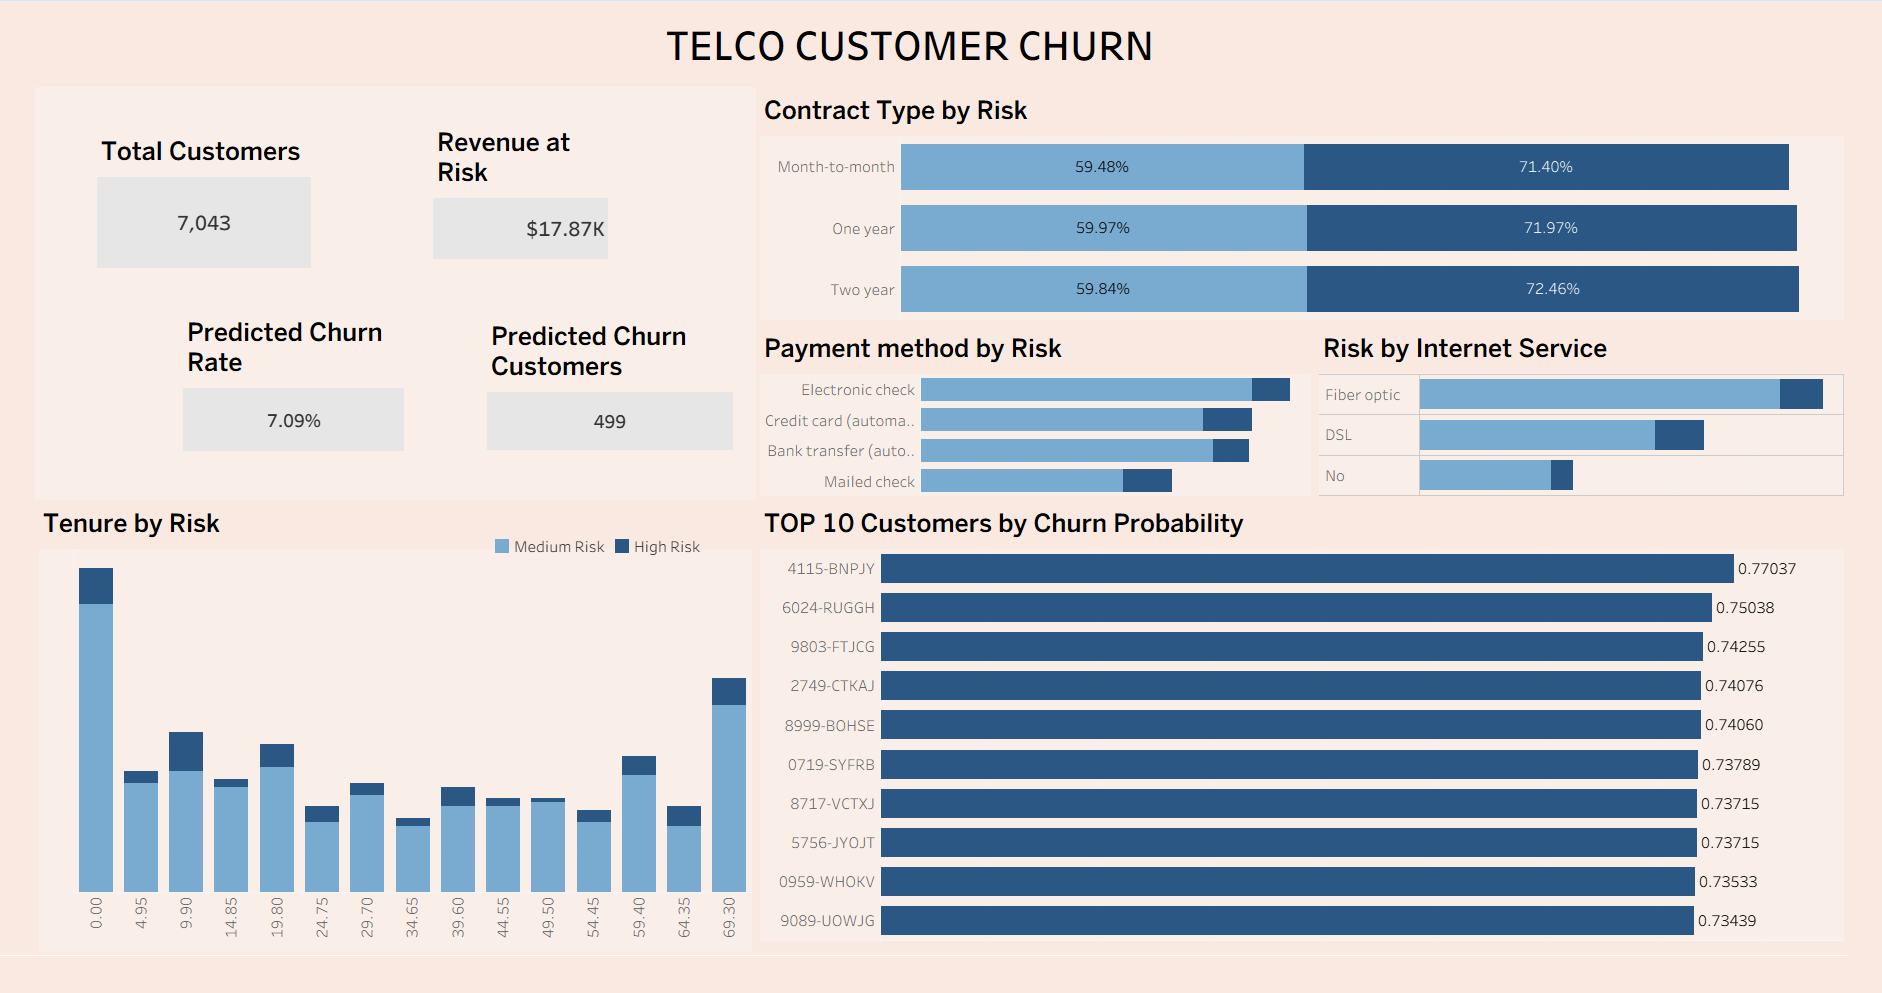

The dashboard page shown, as its layout file describes it:
{"tool":"tableau","page":{"name":"Dashboard 2","canvas":[1000,1000],"units":"permille","ordinal":1},"visuals":[{"type":"text","box":[0,0,977.1,87.1]},{"type":"worksheet","title":"Sheet 27","mark":"Automatic","rows":["Contract"],"cols":["Churn_Probability"],"box":[411.6,87.1,565.5,238.9]},{"type":"worksheet","title":"churn probability dist","mark":"Automatic","box":[240.2,123.3,91.1,136.6]},{"type":"worksheet","title":"total_no_customers","mark":"Automatic","box":[65.2,131.8,111.7,136.6]},{"type":"worksheet","title":"predict churn rate","mark":"Automatic","box":[109.8,314.4,115.3,139.1]},{"type":"worksheet","title":"total no churn prediction","mark":"Automatic","box":[267.9,316.8,129.2,136.6]},{"type":"worksheet","title":"Sheet 28","mark":"Automatic","rows":["PaymentMethod"],"cols":["customerID"],"box":[411.6,326,289.4,176.6]},{"type":"worksheet","title":"Sheet 26","mark":"Automatic","rows":["InternetService","Calculation_1174313615127048192"],"cols":["customerID"],"box":[701,326,276,176.6]},{"type":"worksheet","title":"Sheet 29","mark":"Automatic","rows":["customerID"],"cols":["Tenure (bin)"],"box":[38,502.5,373.6,458.8]},{"type":"worksheet","title":"Sheet 30","mark":"Automatic","rows":["customerID"],"cols":["Churn_Probability"],"box":[411.6,502.5,565.5,458.8]},{"type":"legend","title":"Sheet 26","param":"[federated.1c94pka0d02pmd14s1cyp1slqojq].[none:customer_segment:nk]","box":[271,516.3,152.7,77.4]}]}

Visuals, with their boxes on the dashboard's canvas, which has no fixed pixel size, in thousandths of its width and height (x1, y1, x2, y2). These are canvas units, not pixel positions in the 1882x993 screenshot, which may show the page scaled, cropped or inside an application window:
text: x1=0 y1=0 x2=977 y2=87
"Sheet 27" worksheet: x1=412 y1=87 x2=977 y2=326
"churn probability dist" worksheet: x1=240 y1=123 x2=331 y2=260
"total_no_customers" worksheet: x1=65 y1=132 x2=177 y2=268
"predict churn rate" worksheet: x1=110 y1=314 x2=225 y2=454
"total no churn prediction" worksheet: x1=268 y1=317 x2=397 y2=453
"Sheet 28" worksheet: x1=412 y1=326 x2=701 y2=503
"Sheet 26" worksheet: x1=701 y1=326 x2=977 y2=503
"Sheet 29" worksheet: x1=38 y1=502 x2=412 y2=961
"Sheet 30" worksheet: x1=412 y1=502 x2=977 y2=961
"Sheet 26" legend: x1=271 y1=516 x2=424 y2=594
